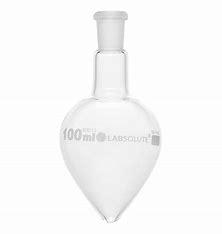Pear shaped flask: (54, 12, 166, 223)
